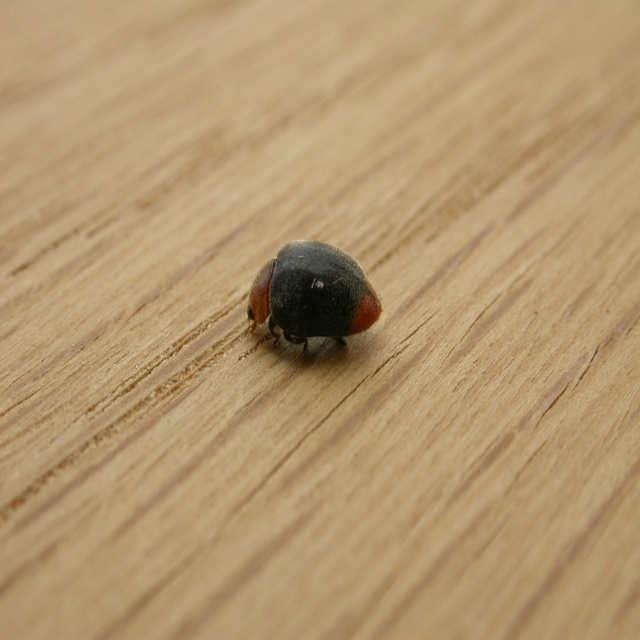Ladybug: (246, 238, 382, 355)
